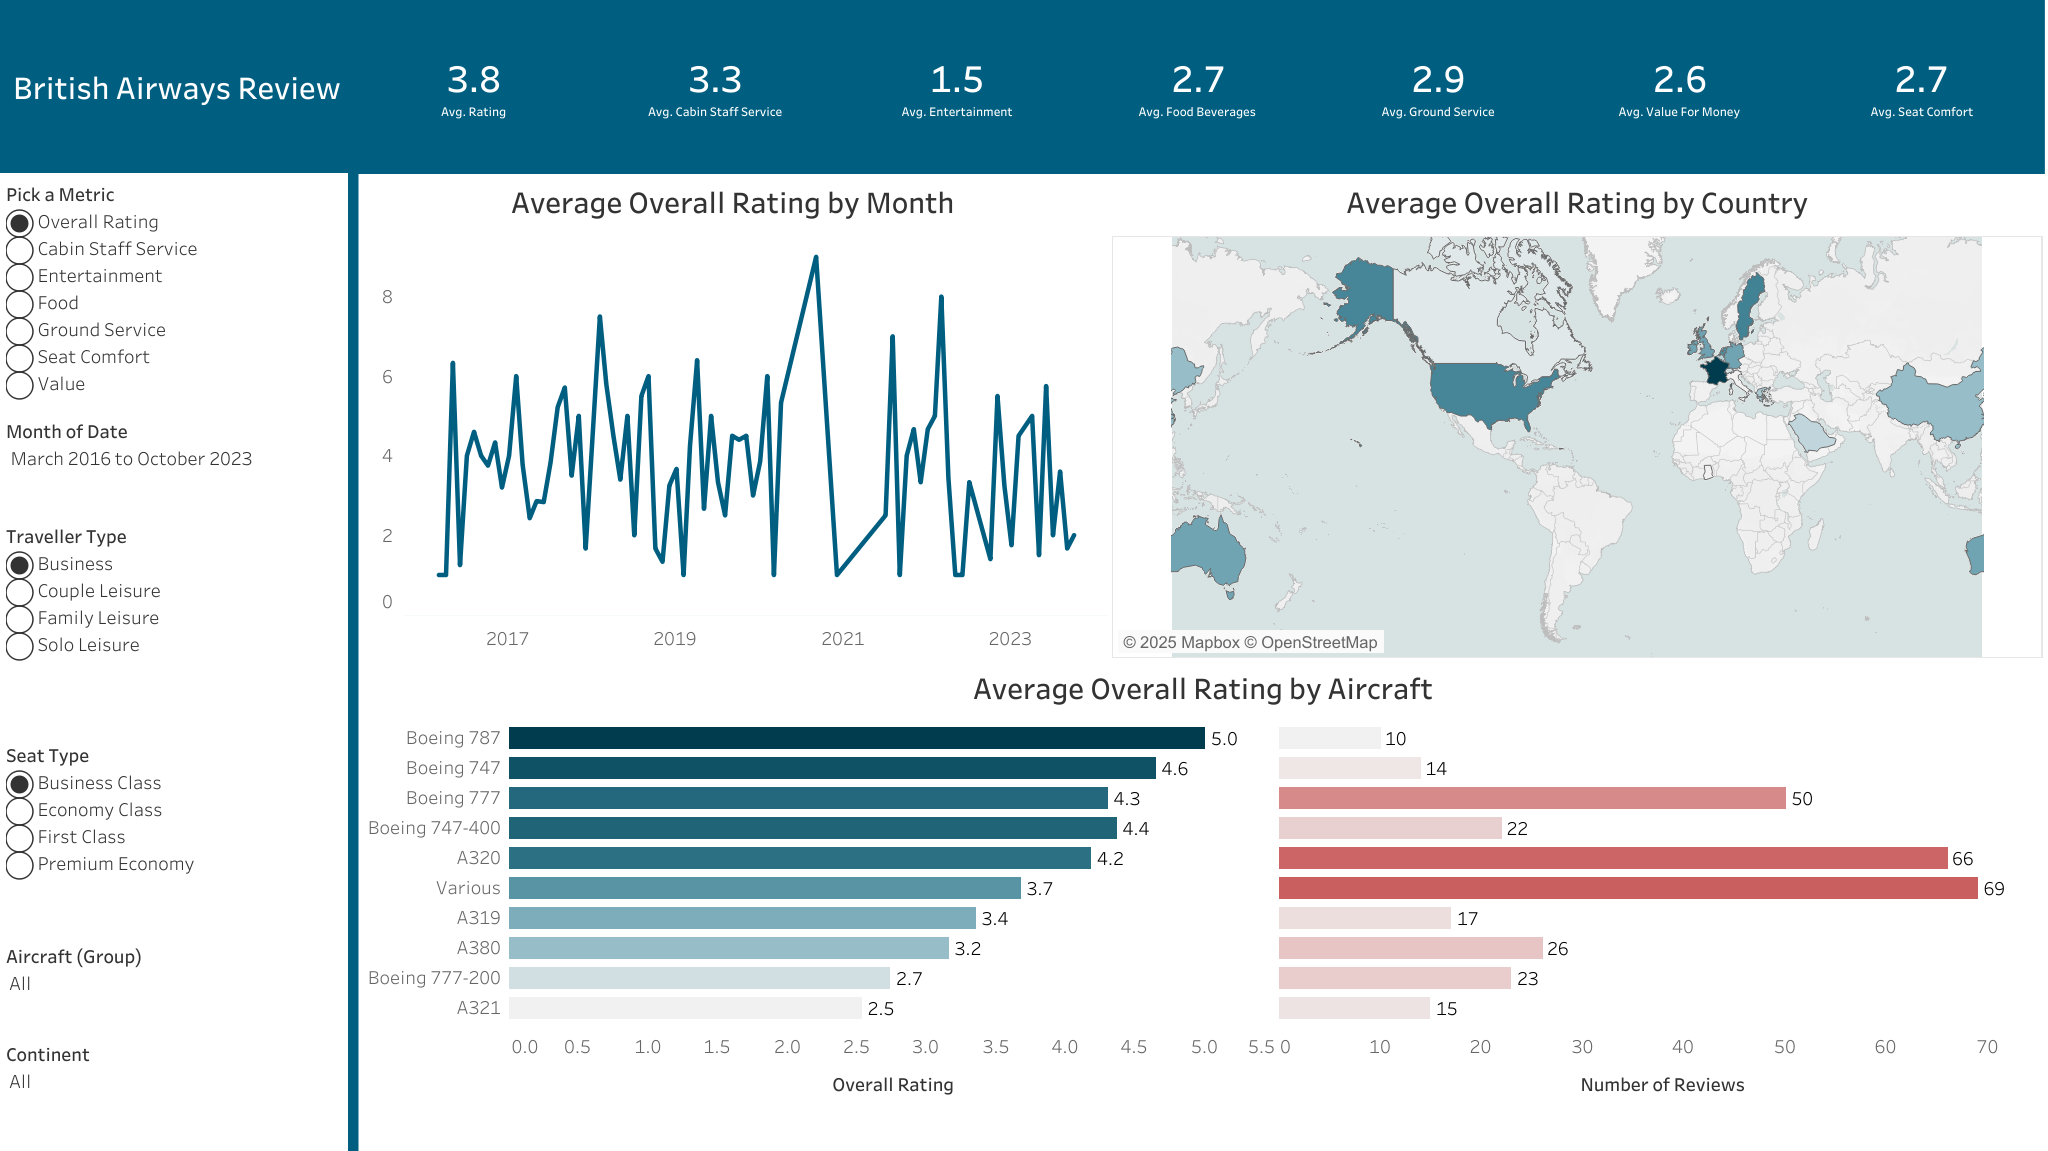

What the dashboard file says about the page in this screenshot:
{"tool":"tableau","page":{"name":"Dashboard 1","canvas":[1366,768],"ordinal":0},"visuals":[{"type":"title","box":[0,0,236,115]},{"type":"worksheet","title":"Sheet 5","mark":"Automatic","box":[236,0,1126,115]},{"type":"blank","box":[232.1,106,6.7,665]},{"type":"parameter","param":"[Parameters].[Parameter 1]","box":[0,115,231,158]},{"type":"worksheet","title":"Month","mark":"Automatic","rows":["Calculation_586030960281120769"],"cols":["date"],"box":[239,115,499,324]},{"type":"worksheet","title":"Country","mark":"Automatic","box":[741,115,621,324]},{"type":"filter","title":"Country","param":"[federated.0t2c2dl1og59tw12kicqm16d3xc1].[tmn:date:qk]","box":[0,273,231,77]},{"type":"filter","title":"Country","param":"[federated.0t2c2dl1og59tw12kicqm16d3xc1].[none:traveller_type:nk]","box":[0,350,231,146]},{"type":"worksheet","title":"Avg/ Aircraft","mark":"Automatic","cols":["Calculation_586030960281120769","ba_reviews.csv_D1EAA9FDBF6A4E68A1A3B0229D91A8E2"],"box":[239,439,1126,329]},{"type":"filter","title":"Country","param":"[federated.0t2c2dl1og59tw12kicqm16d3xc1].[none:seat_type:nk]","box":[0,496,231,134]},{"type":"filter","title":"Country","param":"[federated.0t2c2dl1og59tw12kicqm16d3xc1].[Aircraft (group)]","box":[0,630,231,65]},{"type":"filter","title":"Country","param":"[federated.0t2c2dl1og59tw12kicqm16d3xc1].[none:Continent:nk]","box":[0,695,231,70]}]}

Visuals, with their boxes in screenshot pixels (x1, y1, x2, y2), scaled from the page's 1366x768 canvas onto the 2048x1151 screenshot:
title: crop(0, 0, 354, 172)
"Sheet 5" worksheet: crop(354, 0, 2042, 172)
blank: crop(348, 159, 358, 1150)
parameter: crop(0, 172, 346, 409)
"Month" worksheet: crop(358, 172, 1106, 658)
"Country" worksheet: crop(1111, 172, 2042, 658)
"Country" filter: crop(0, 409, 346, 525)
"Country" filter: crop(0, 525, 346, 743)
"Avg/ Aircraft" worksheet: crop(358, 658, 2047, 1150)
"Country" filter: crop(0, 743, 346, 944)
"Country" filter: crop(0, 944, 346, 1042)
"Country" filter: crop(0, 1042, 346, 1147)
